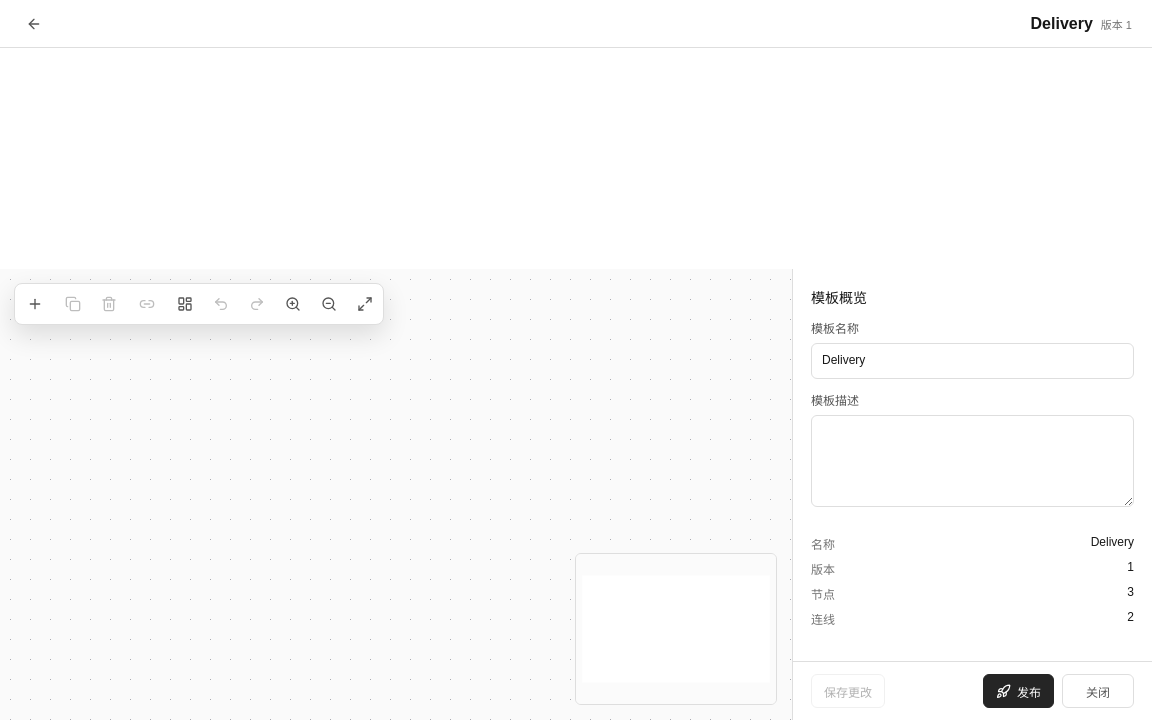
Test: WorkflowTemplateCanvasPage › toasts a safe redo failure
Click the button named "添加节点" at (35, 304), box [19,288,51,320]
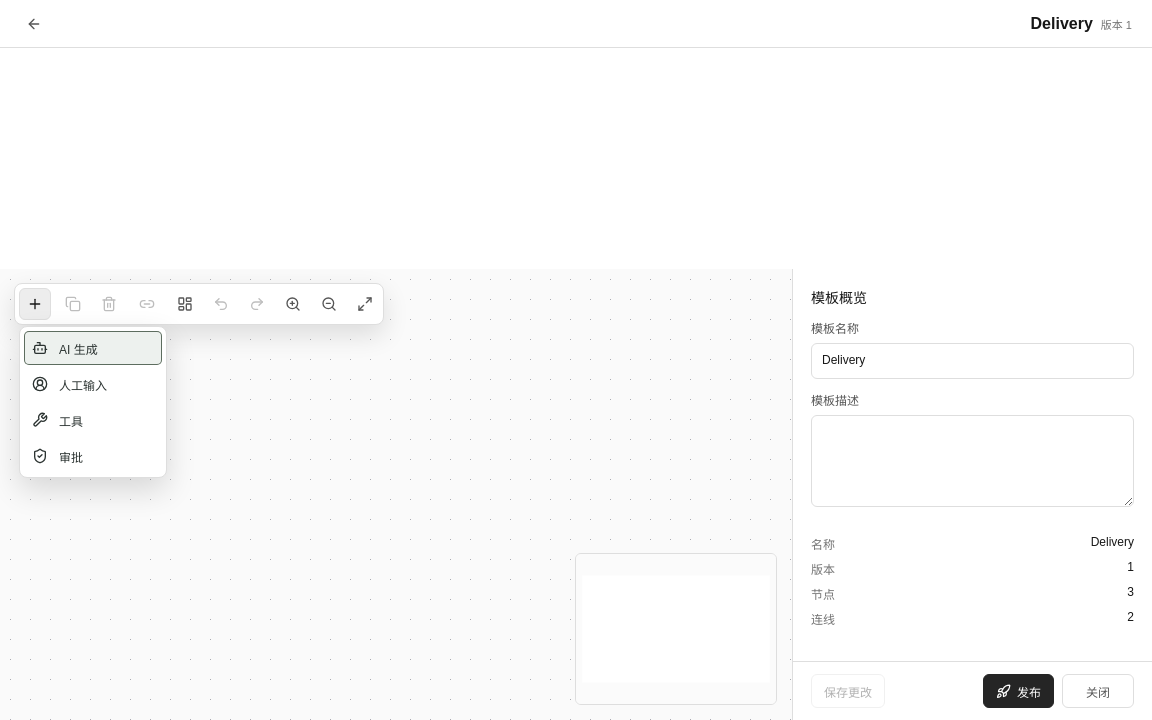
Click the menu item "AI 生成" at (93, 348), box [24,331,162,365]
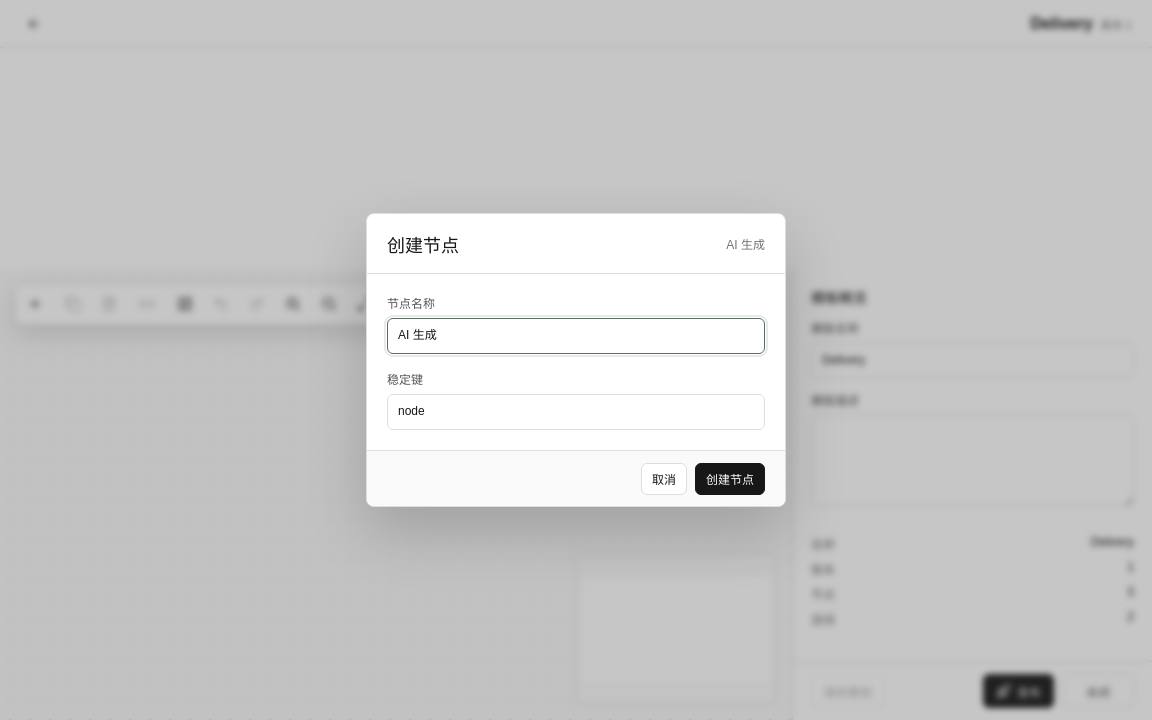
Click the button "创建节点" at (730, 478), box [695,462,765,494]
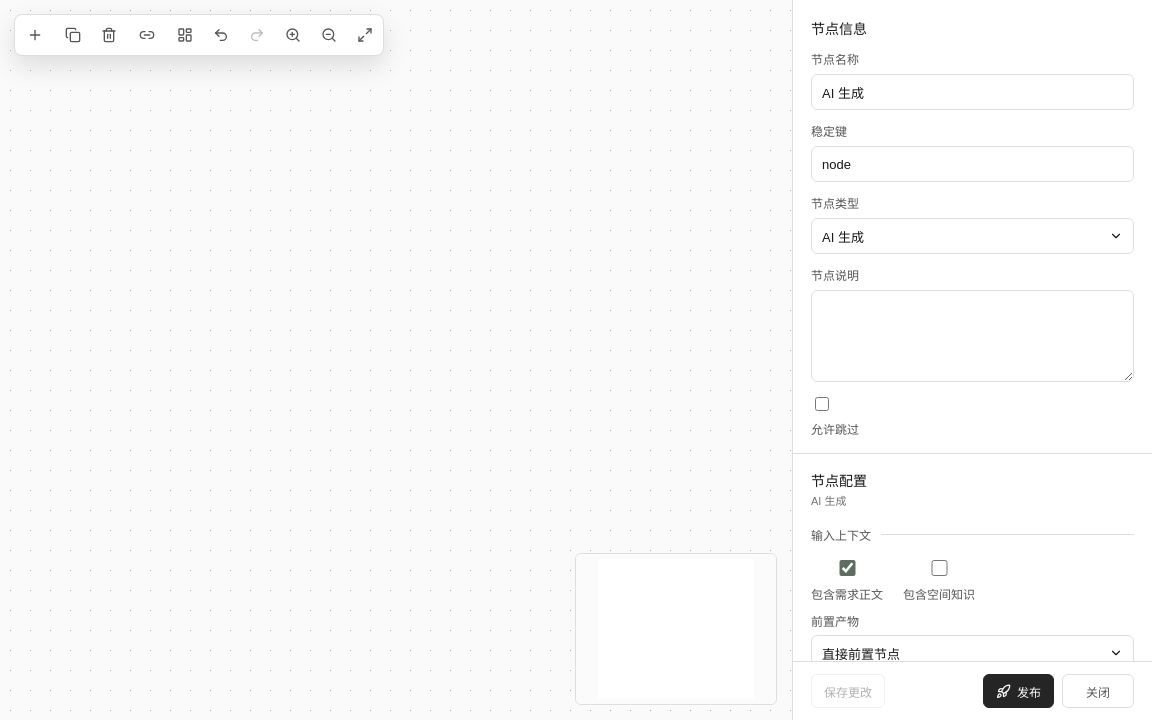
Now the button named "撤销" is enabled
Click the button named "撤销" at (221, 35), box [207,19,235,51]
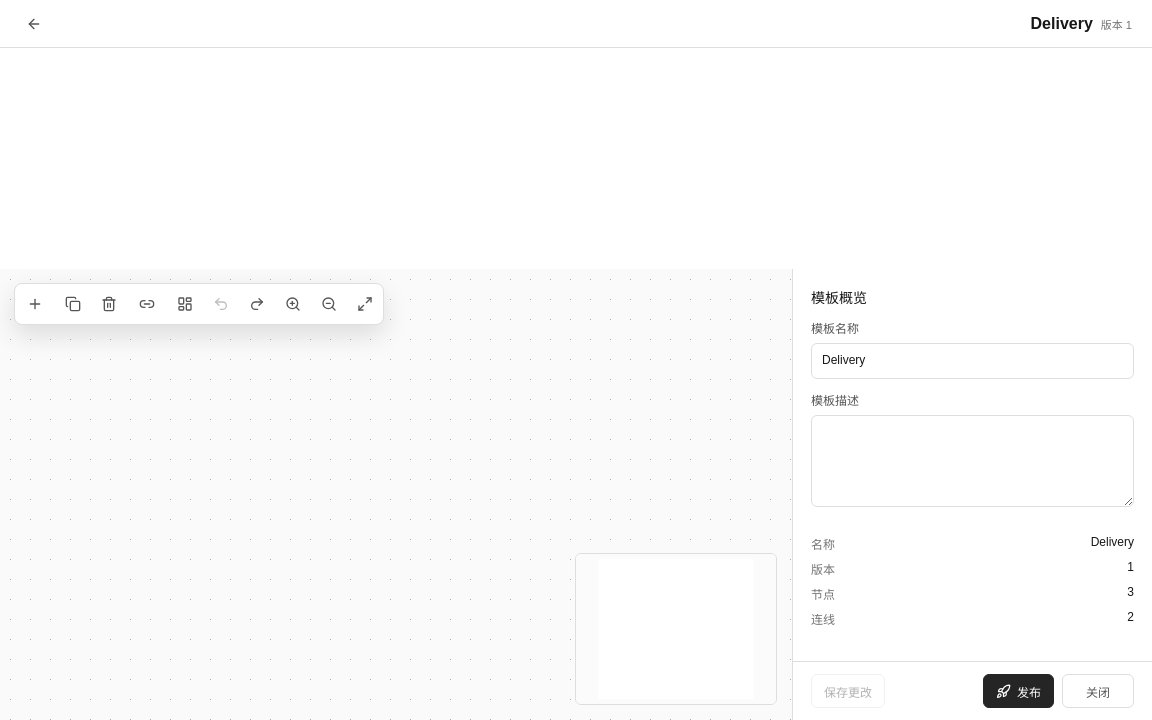
Now the button named "重做" is enabled
Click the button named "重做" at (257, 304), box [243,288,271,320]
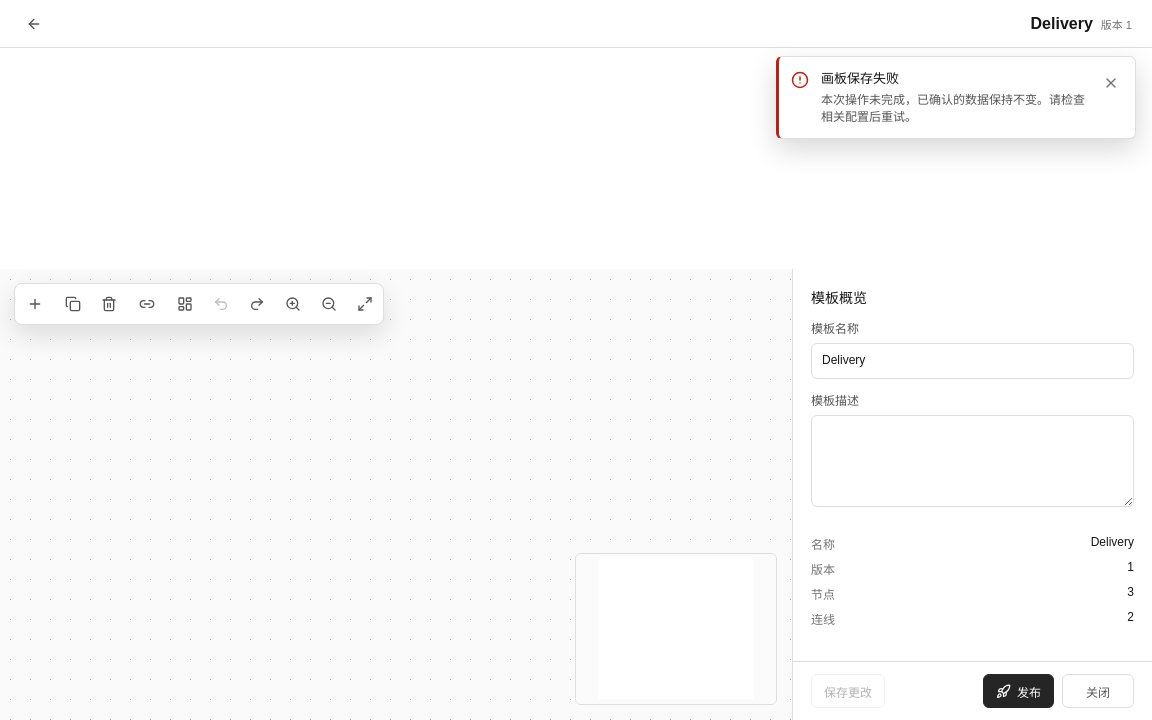
Expected: the message does not show "redo stack trace", [776,56,1136,139]
Now the message shows "画板保存失败", box [821,71,899,86]
